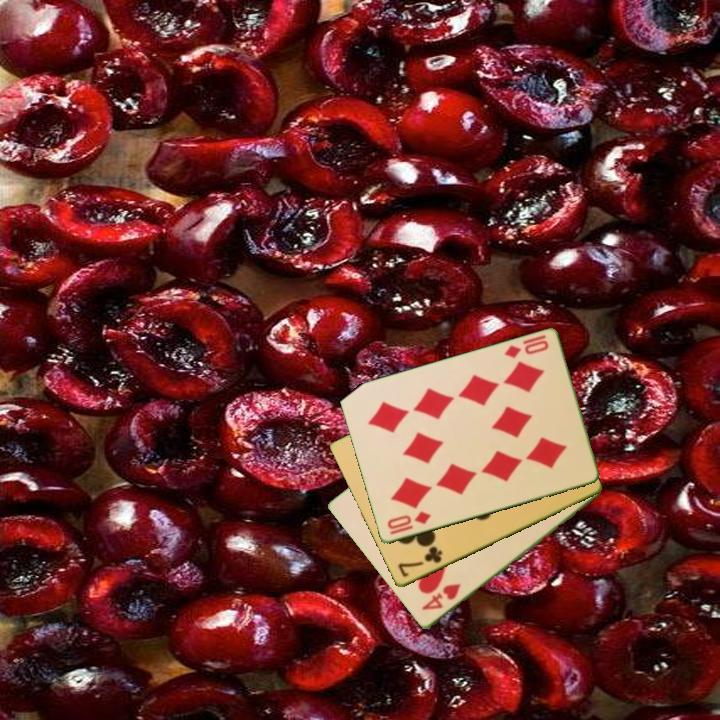10d: (384, 508, 434, 538), (501, 337, 551, 362)
4h: (418, 580, 464, 614)
7c: (394, 543, 445, 580)
